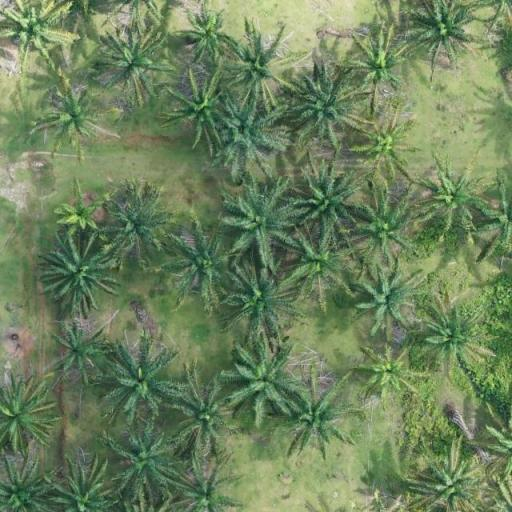Ganoderma: (358, 42, 402, 83), (366, 350, 406, 390), (366, 126, 405, 164), (60, 198, 96, 230)
